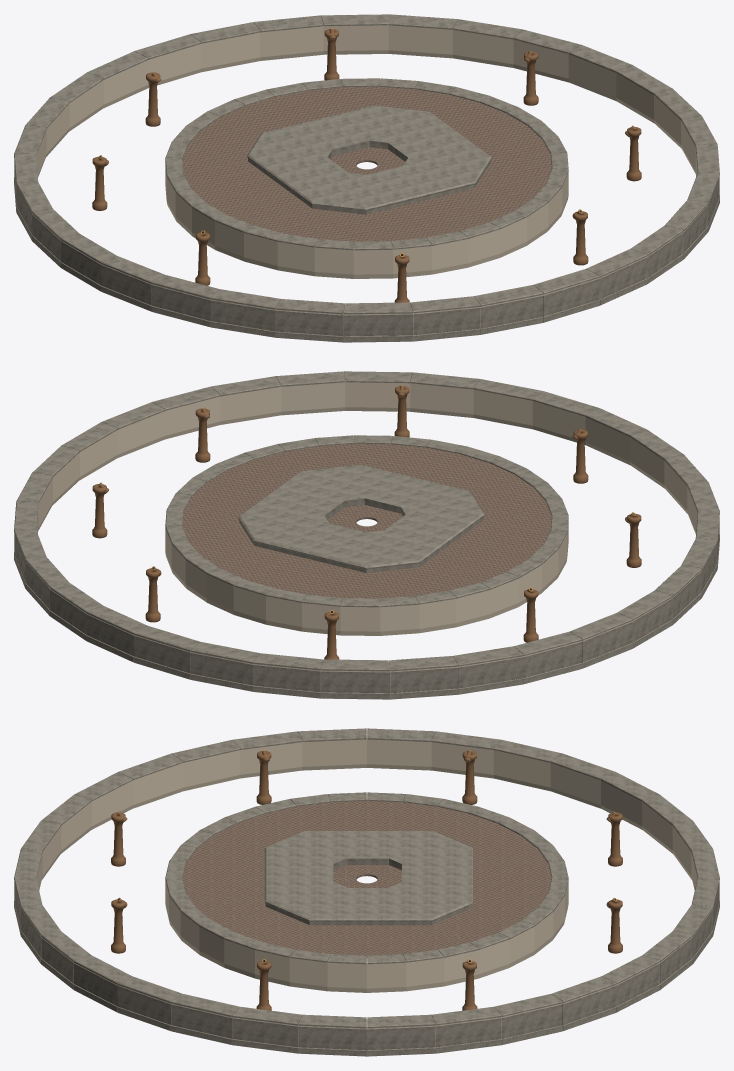
The model's file is fountain-architecture.glb.
The picture shows the model from 3 angles, top to bottom: view 1: azimuth 30°, elevation 25°; view 2: azimuth 150°, elevation 25°; view 3: azimuth 270°, elevation 25°; orthographic projection.
Visible parts, largest first — view 1: City3FountainMasonryAndSpouts; view 2: City3FountainMasonryAndSpouts; view 3: City3FountainMasonryAndSpouts.
Part boxes in pixels (<box>): City3FountainMasonryAndSpouts: <box>14,14,719,342</box>; City3FountainMasonryAndSpouts: <box>14,371,719,699</box>; City3FountainMasonryAndSpouts: <box>14,728,719,1056</box>.
Size of the model in its own units: 21 by 1.75 by 21.
6 materials, 2 textured.
